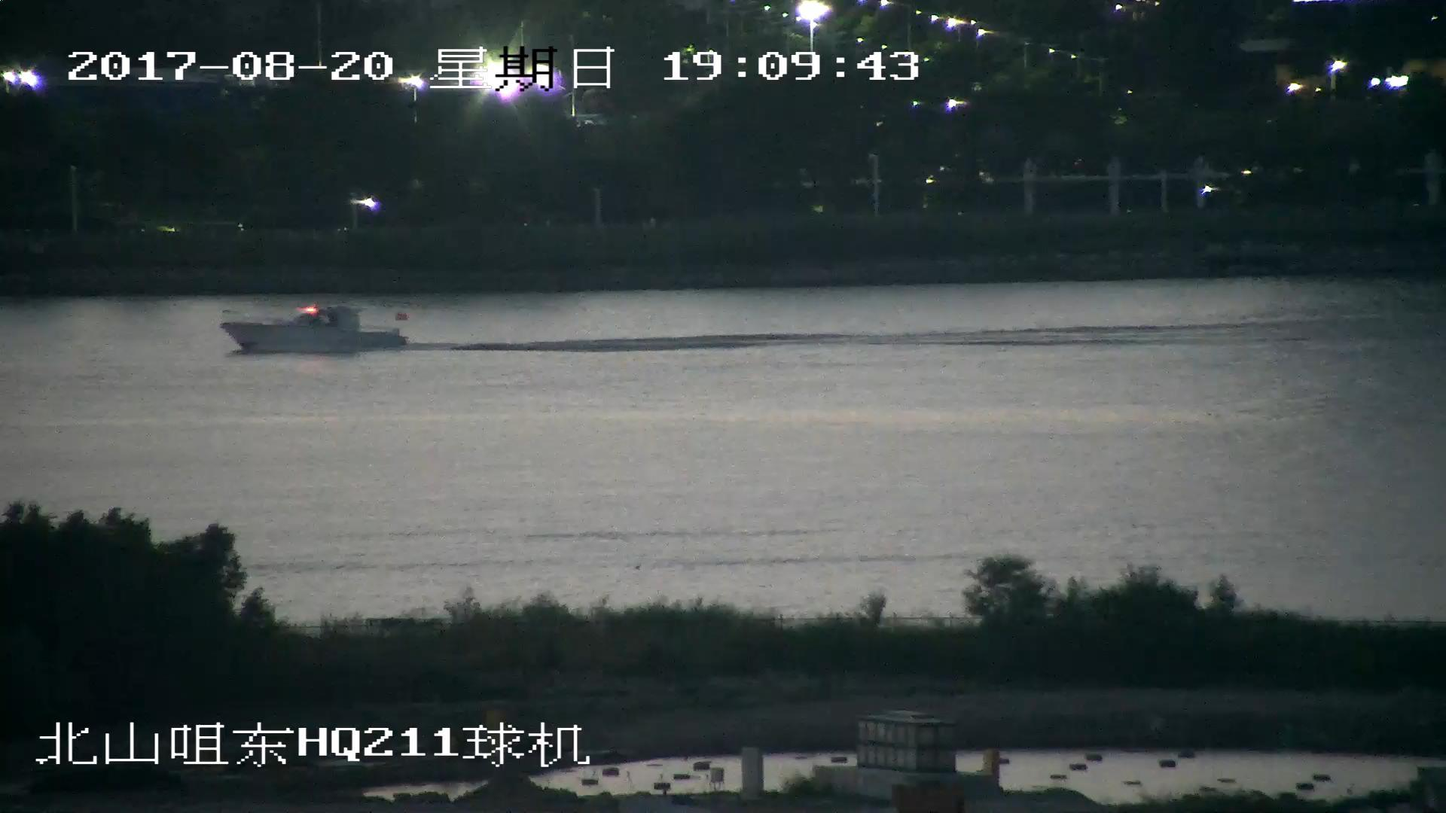passenger ship: (221, 300, 406, 356)
